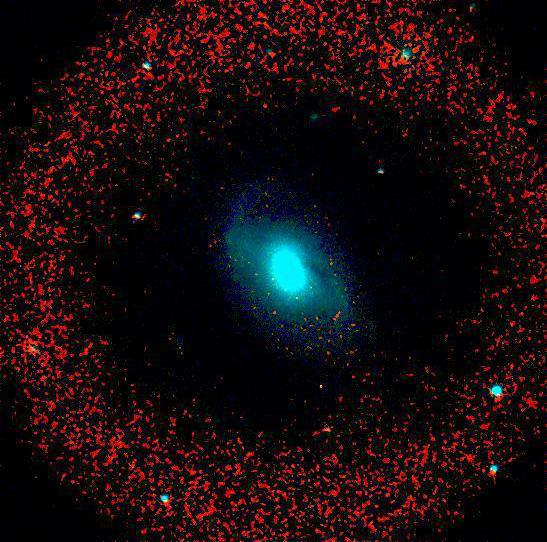star: (301, 373, 331, 403)
